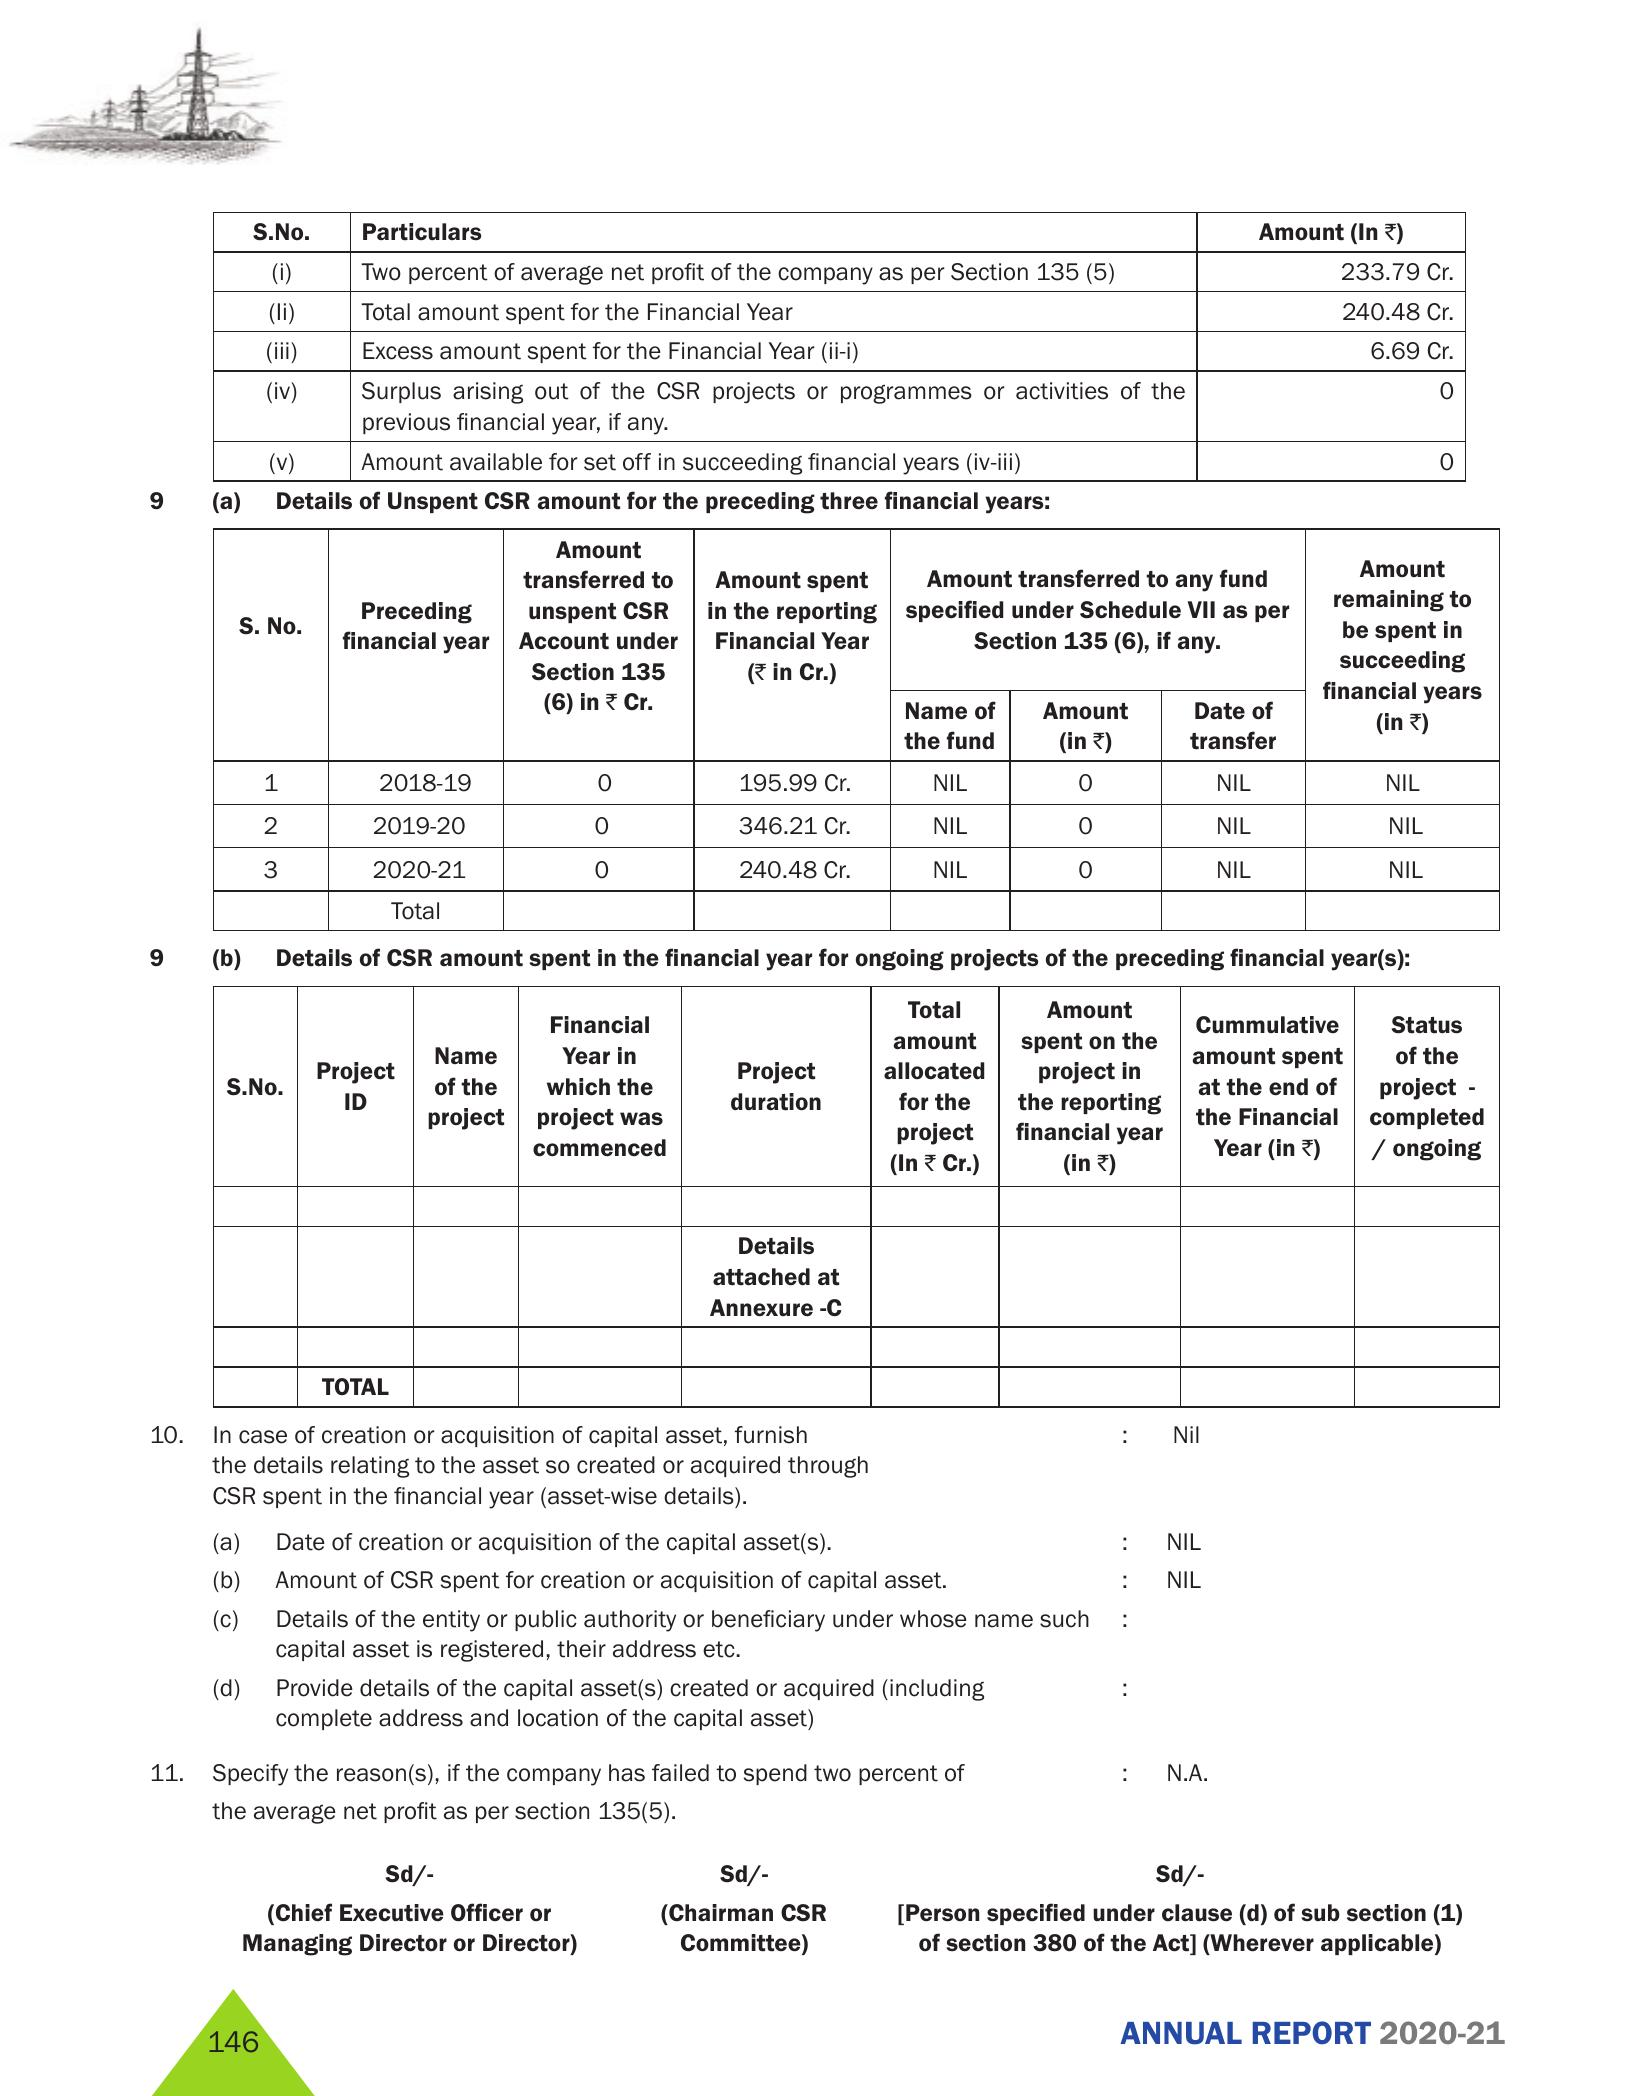Footer: (0, 1974, 1650, 2096)
Header: (0, 0, 1650, 168)
Table: (126, 985, 1521, 1422), (139, 534, 1511, 932), (163, 175, 1499, 487)
